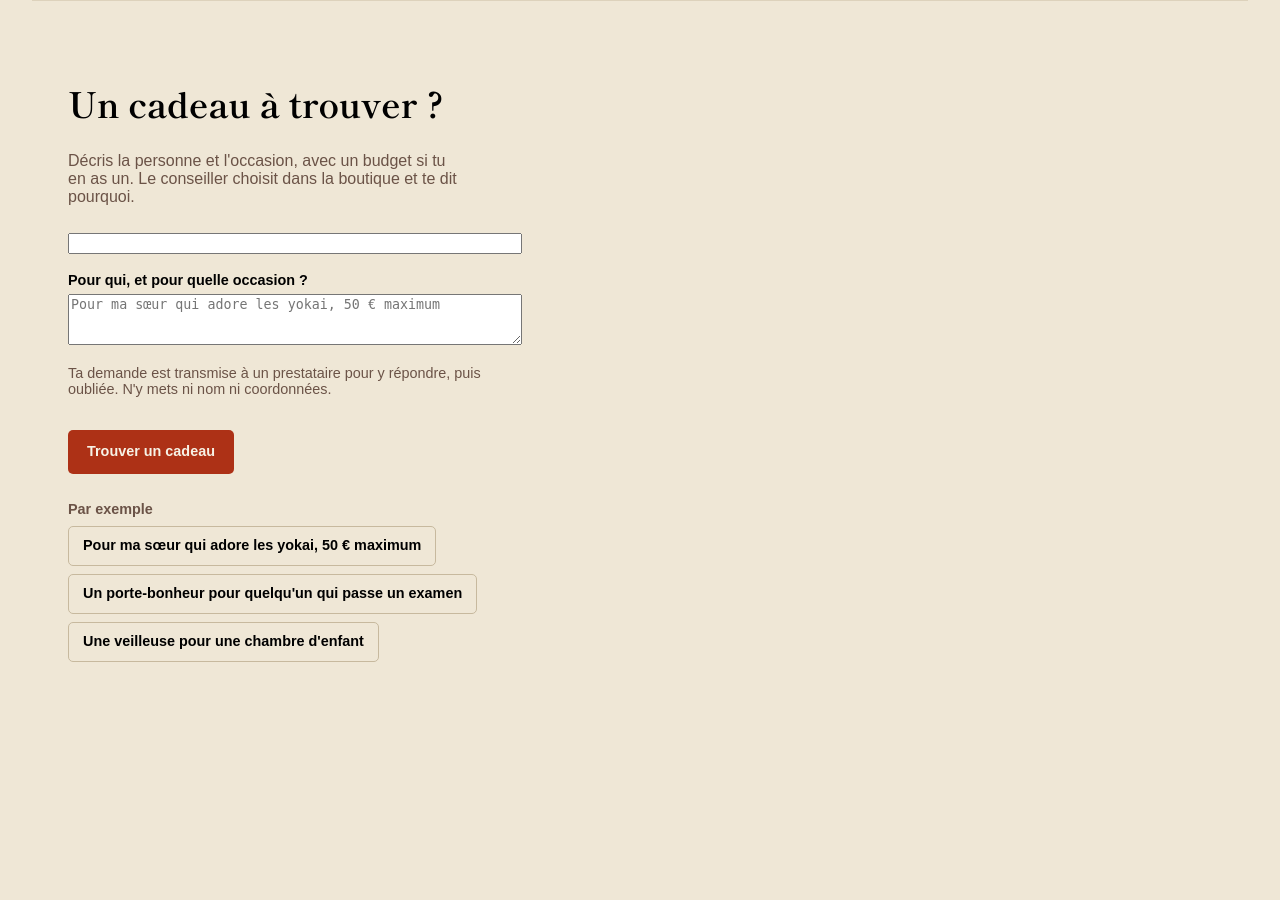
Test: Conseil cadeau › dit quand le plafond du jour est atteint
Type "Pour mon frère" into the text box labelled "Pour qui, et pour quelle occasion ?".
click(295, 320); type("Pour mon frère")  # box [68,294,522,345]
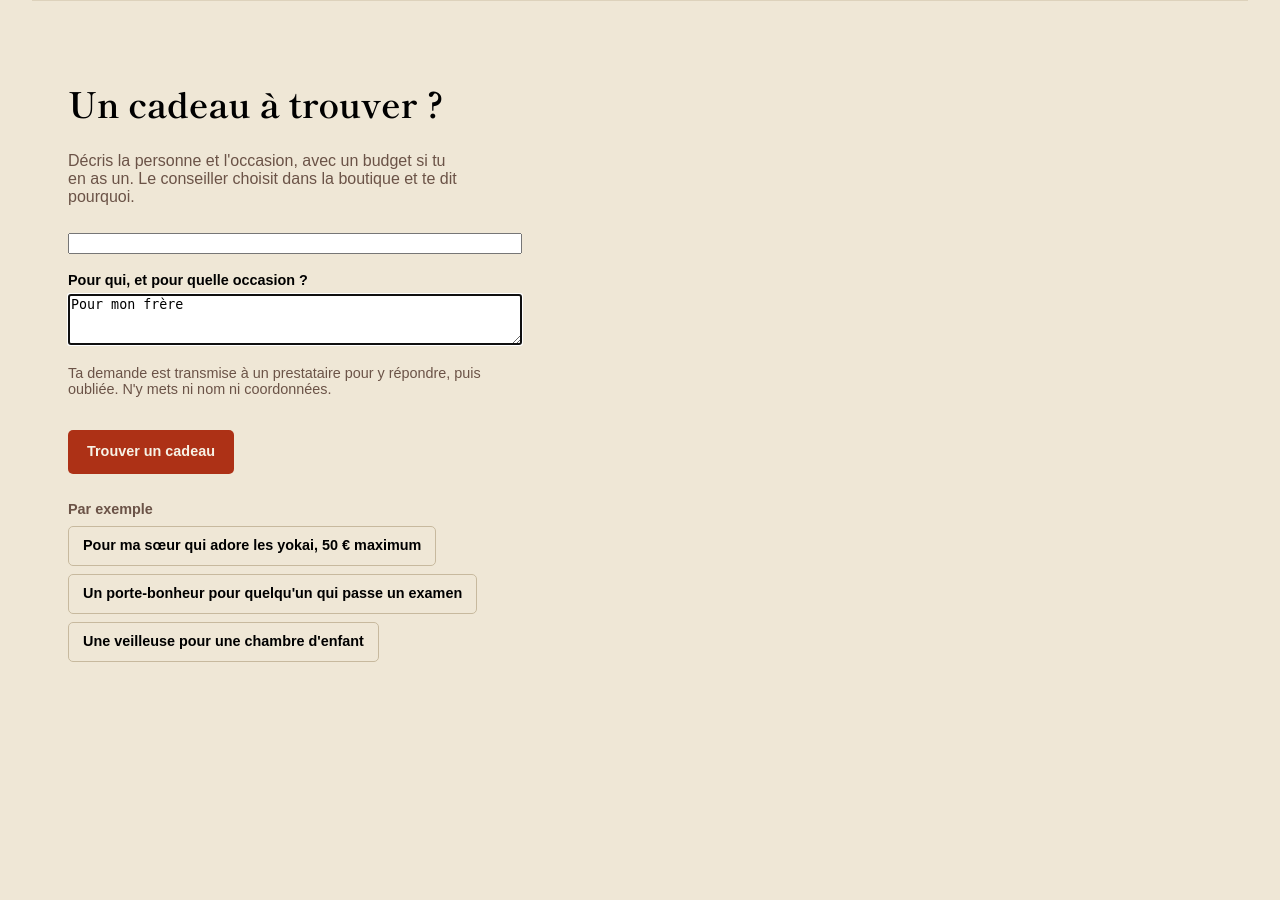
Click the button "Trouver un cadeau".
click(151, 452)  # box [68,430,234,474]
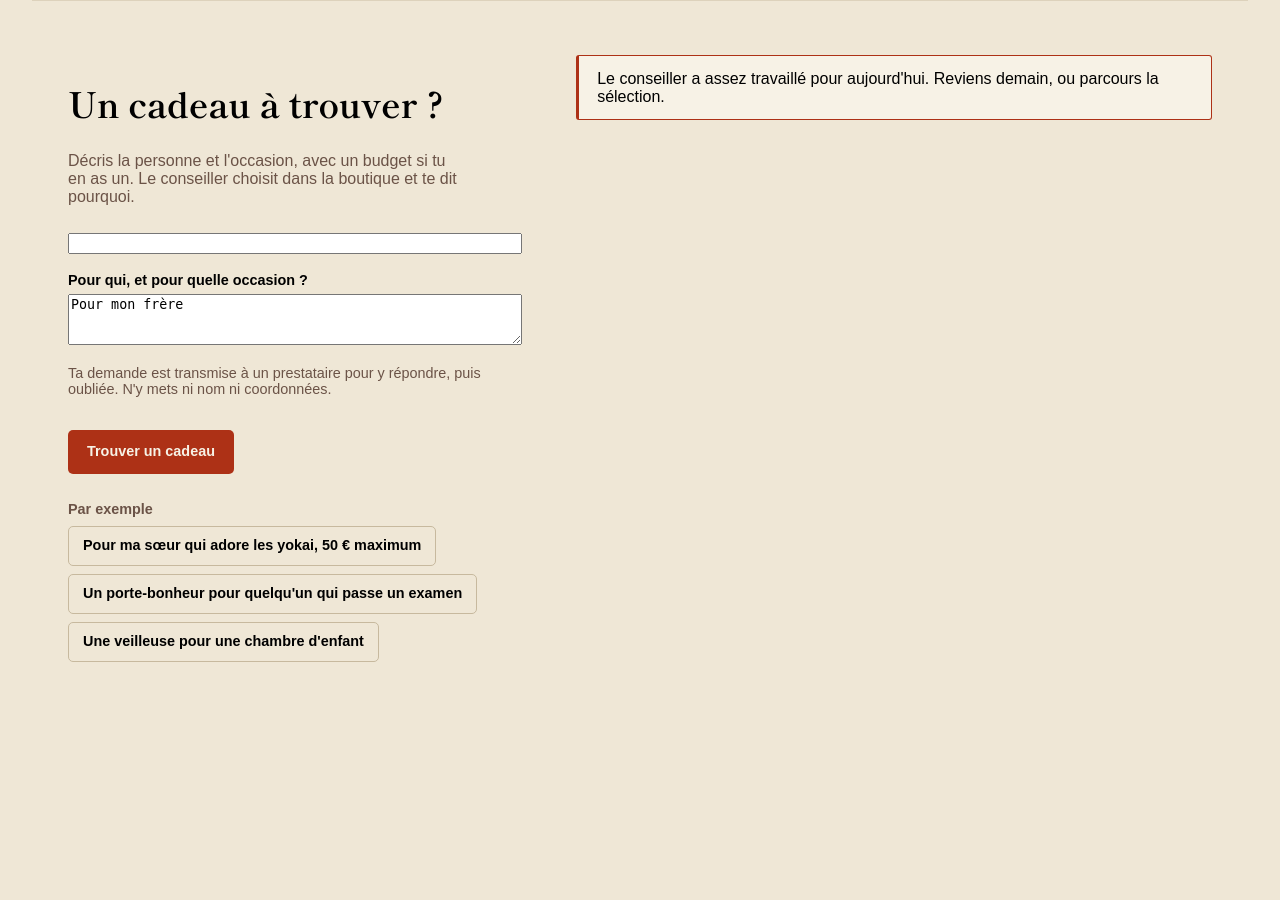
Now the message shows "Reviens demain", box [597,70,1159,104]
